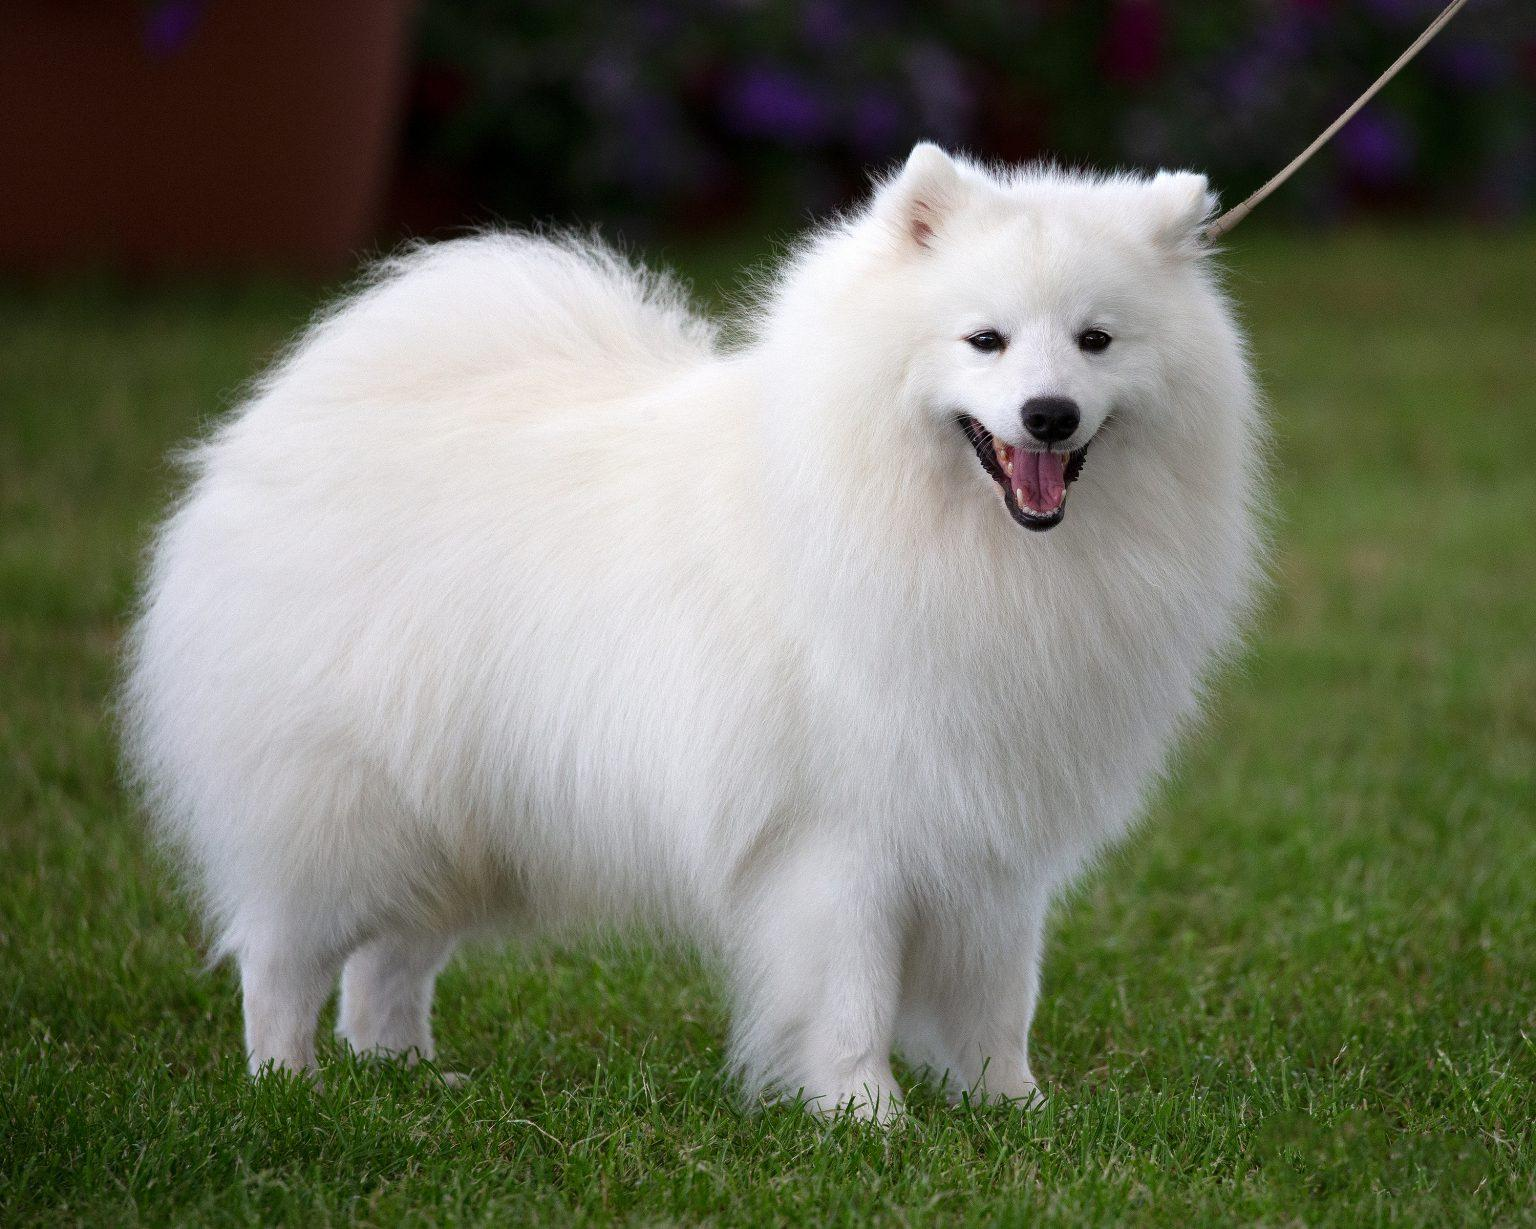dog: (130, 178, 1280, 1146)
